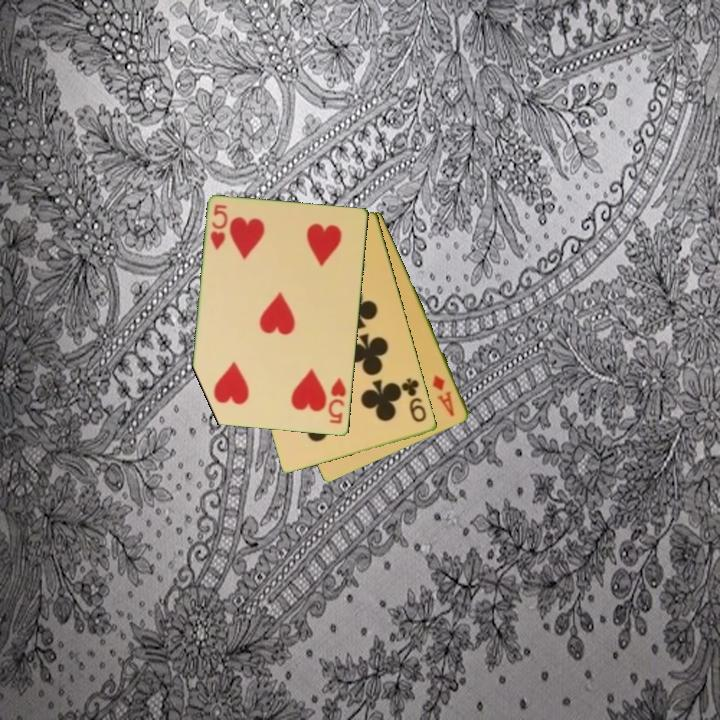5h: (325, 375, 349, 427), (207, 201, 231, 253)
9c: (398, 374, 430, 425)
Ad: (429, 371, 458, 420)
